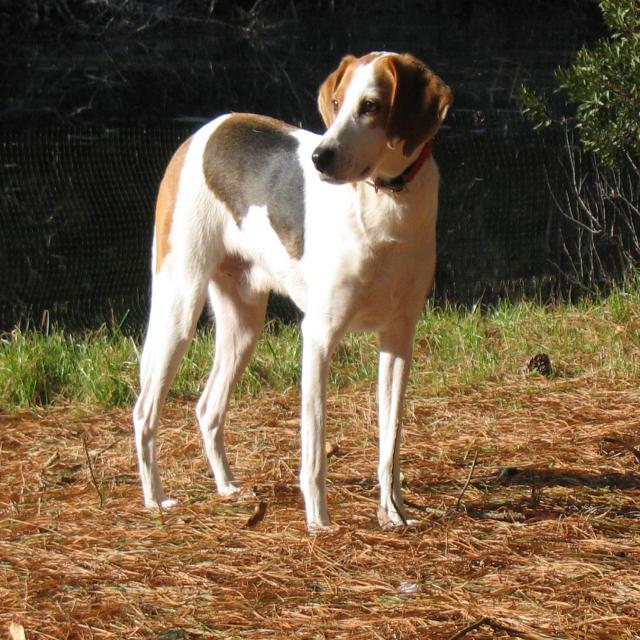good: (120, 42, 451, 554)
